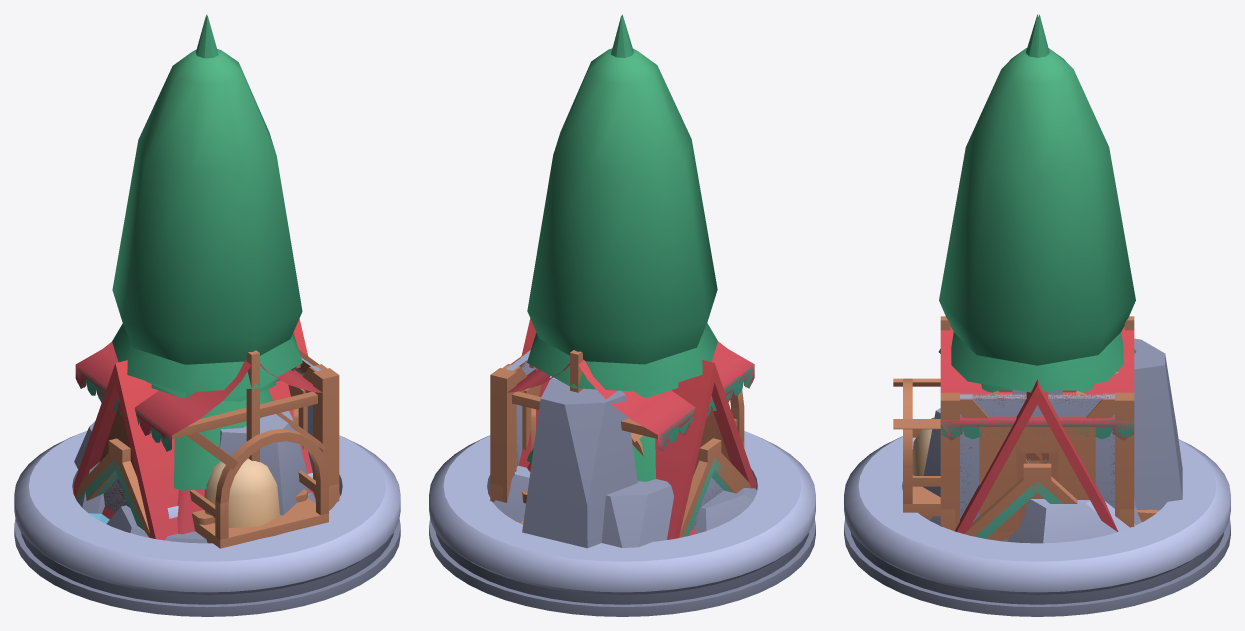
File: kit-town.glb
3 renders of one model, left to right at view 1: azimuth 30°, elevation 25°; view 2: azimuth 150°, elevation 25°; view 3: azimuth 270°, elevation 25°, orthographic.
Parts seen in each view (by area): view 1: tree-high-round, fountain-round, roof-high-gable, stall-red, cart-high, tree-high, rock-large, cart, tree, wall, roof-gable-detail, roof-gable (+2 smaller); view 2: tree-high-round, fountain-round, rock-wide, roof-high-gable, rock-large, stall-red, tree-high, wall, roof-gable-detail, tree, stall-green, roof-gable (+2 smaller); view 3: tree-high-round, fountain-round, wall, rock-wide, tree-high, wall-window-shutters, stall-red, rock-large, roof-high-gable, wall-window-glass, cart-high, wall-doorway-square (+8 smaller).
Part boxes in pixels (left/top/right/bottom): tree-high-round: left=112, top=49, right=302, bottom=364; fountain-round: left=14, top=431, right=400, bottom=616; roof-high-gable: left=73, top=319, right=340, bottom=540; stall-red: left=75, top=342, right=322, bottom=526; cart-high: left=186, top=413, right=328, bottom=539; tree-high: left=112, top=15, right=302, bottom=392; rock-large: left=74, top=411, right=308, bottom=543; cart: left=189, top=470, right=328, bottom=548; tree: left=151, top=377, right=277, bottom=490; wall: left=302, top=359, right=339, bottom=498; roof-gable-detail: left=74, top=438, right=150, bottom=537; roof-gable: left=76, top=460, right=143, bottom=529; tree-high-round: left=527, top=48, right=717, bottom=364; fountain-round: left=429, top=431, right=815, bottom=616; rock-wide: left=522, top=378, right=637, bottom=548; roof-high-gable: left=489, top=318, right=756, bottom=539; rock-large: left=489, top=418, right=756, bottom=547; stall-red: left=507, top=341, right=754, bottom=503; tree-high: left=527, top=14, right=717, bottom=392; wall: left=490, top=350, right=530, bottom=502; roof-gable-detail: left=679, top=438, right=750, bottom=537; tree: left=527, top=382, right=678, bottom=481; stall-green: left=658, top=365, right=754, bottom=450; roof-gable: left=683, top=458, right=740, bottom=536; tree-high-round: left=939, top=48, right=1135, bottom=365; fountain-round: left=844, top=436, right=1230, bottom=616; wall: left=940, top=392, right=1134, bottom=529; rock-wide: left=930, top=338, right=1182, bottom=525; tree-high: left=938, top=14, right=1136, bottom=392; wall-window-shutters: left=960, top=398, right=1114, bottom=541; stall-red: left=940, top=316, right=1134, bottom=440; rock-large: left=922, top=408, right=1141, bottom=543; roof-high-gable: left=955, top=379, right=1118, bottom=533; wall-window-glass: left=960, top=398, right=1114, bottom=540; cart-high: left=893, top=378, right=940, bottom=475; wall-doorway-square: left=979, top=427, right=1095, bottom=540.
Size of the model in its own units: 2 by 3.02 by 2.
Materials: 2 (1 with a texture image).
